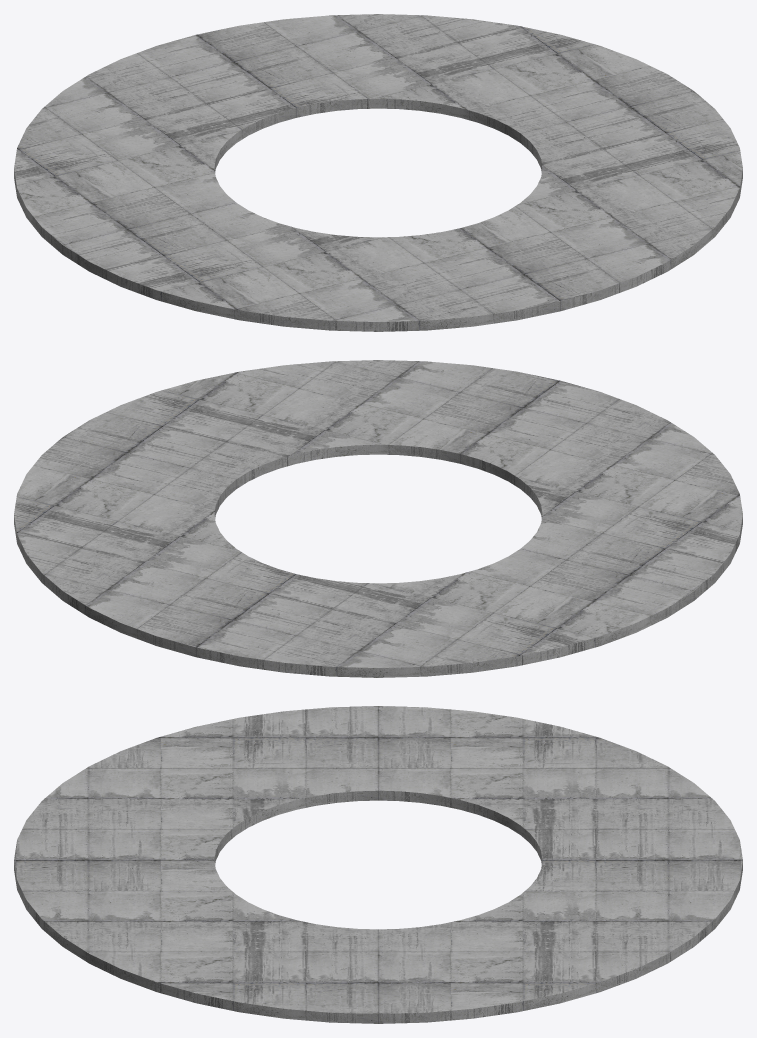
Rendered from SM_Ceiling.fbx.
3 renders of one model, top to bottom at view 1: azimuth 30°, elevation 25°; view 2: azimuth 150°, elevation 25°; view 3: azimuth 270°, elevation 25°, orthographic.
Parts seen in each view (by area): view 1: SM_Ceiling_LOD0; view 2: SM_Ceiling_LOD0; view 3: SM_Ceiling_LOD0.
Part boxes in pixels (x1,y1,x2,y2): SM_Ceiling_LOD0: (14,14,742,331); SM_Ceiling_LOD0: (14,360,742,677); SM_Ceiling_LOD0: (14,706,742,1023).
Bounding box in the file's own units: 4022 × 4022 × 59.93.
Materials: 1 (1 with a texture image).
